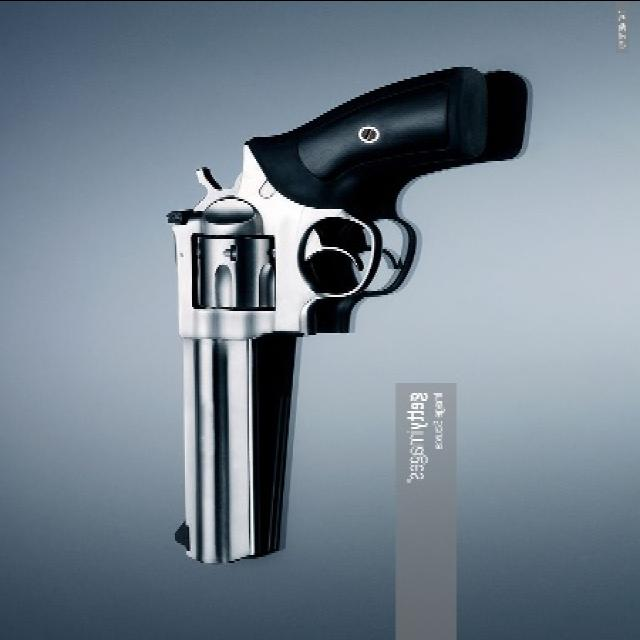handgun: (165, 63, 491, 565)
